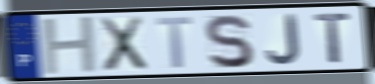H: (40, 14, 101, 77)
J: (264, 13, 302, 66)
S: (202, 12, 256, 71)
T: (154, 15, 195, 70), (313, 11, 354, 65)
X: (97, 15, 149, 74)
